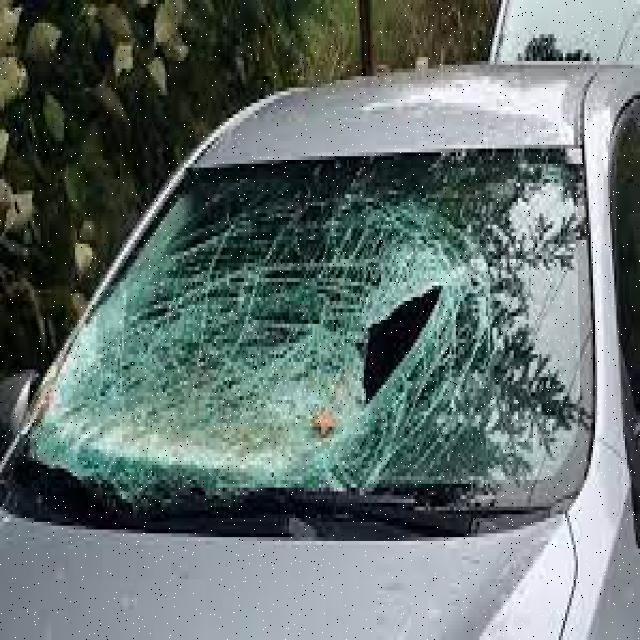Front-Windscreen-Damage: (0, 133, 627, 602)
